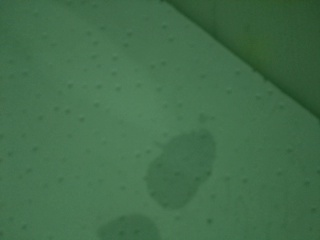Water_detected: (103, 136, 205, 240)
